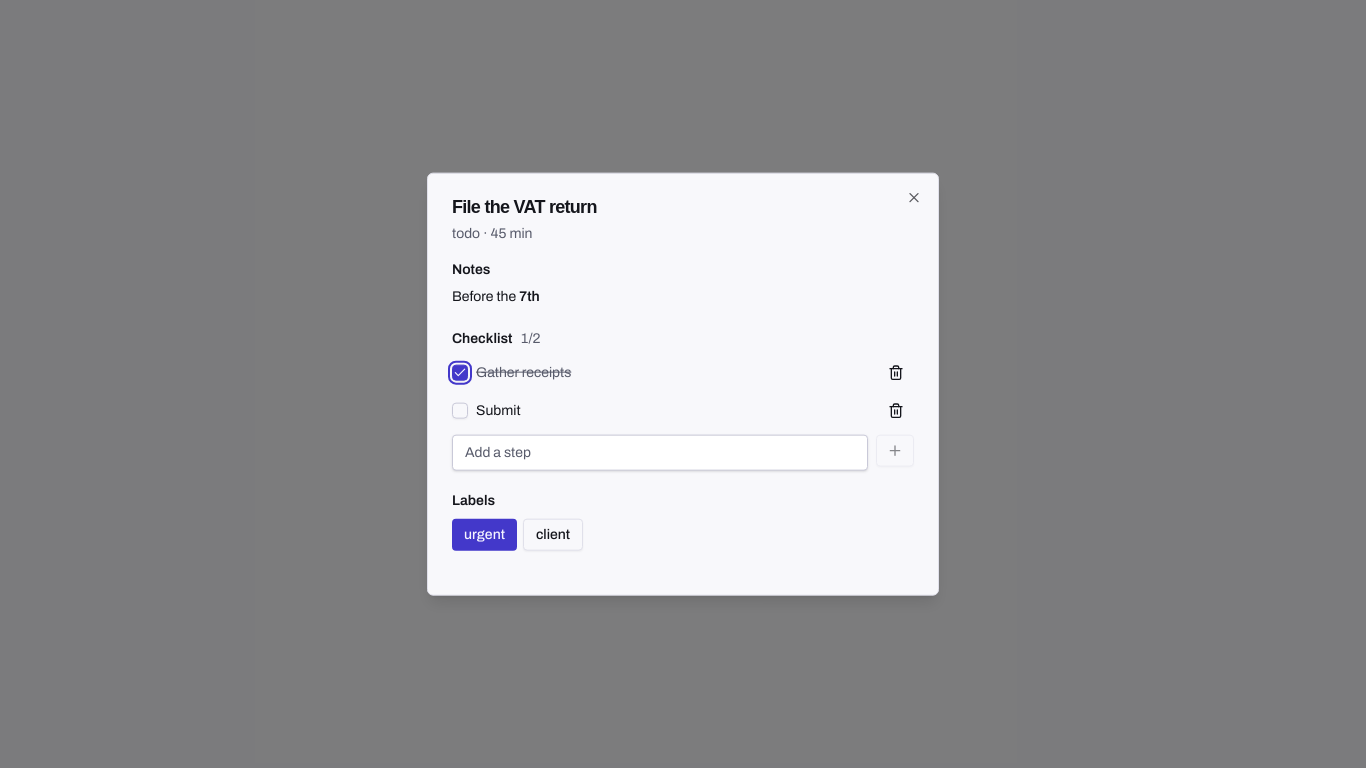
Scenario: CardDetailSheet › surfaces an error and leaves the item in place when removing it fails
The image size is (1366, 768).
Click the button named "Remove Submit" at (896, 410), box [878,394,914,426]
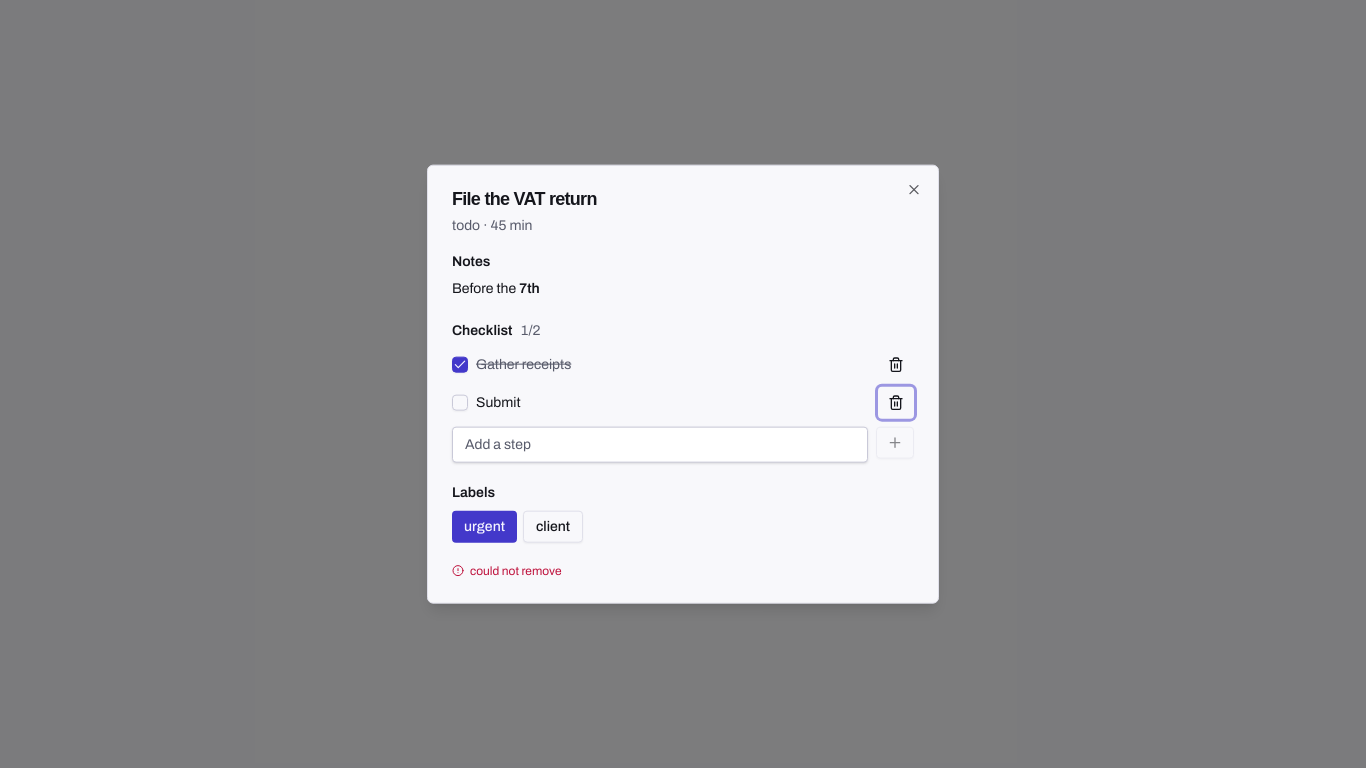
Check: the checkbox named "Submit" next to "Submit" is shown, box [452,394,468,410]
Check: the text "could not remove" is shown, box [452,563,562,577]
